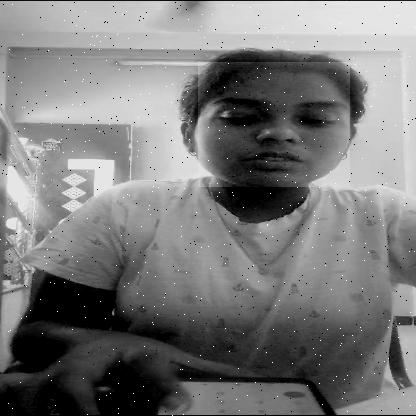Normal: (198, 62, 350, 187)
